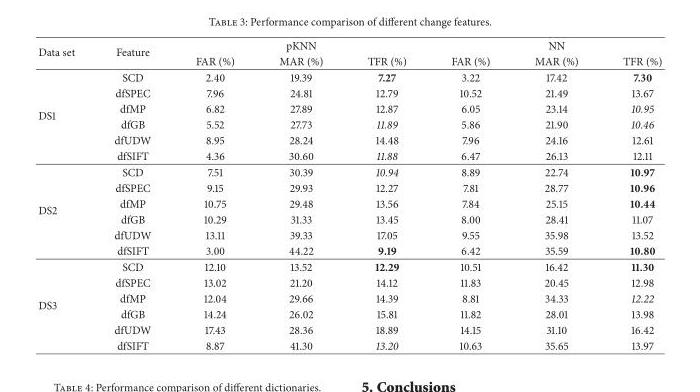table: (37, 37, 661, 352)
table column: (511, 37, 600, 352), (256, 37, 344, 352), (172, 37, 256, 352), (344, 37, 428, 352), (428, 37, 511, 352), (93, 37, 172, 352), (600, 37, 661, 352), (37, 37, 93, 352)
table column header: (37, 37, 661, 68)
table row: (37, 52, 661, 68), (37, 68, 661, 84), (37, 84, 661, 100), (37, 100, 661, 116), (37, 131, 661, 147), (37, 147, 661, 163), (37, 163, 661, 179), (37, 179, 661, 195), (37, 195, 661, 211), (37, 226, 661, 242), (37, 242, 661, 258), (37, 258, 661, 274), (37, 274, 661, 290), (37, 305, 661, 321), (37, 321, 661, 337), (37, 37, 661, 52), (37, 116, 661, 131), (37, 211, 661, 226), (37, 290, 661, 305), (37, 337, 661, 352)
table spanning cell: (37, 68, 93, 163), (37, 163, 93, 258), (37, 258, 93, 352), (172, 37, 428, 52), (428, 37, 661, 52), (93, 37, 172, 68), (37, 37, 93, 68)
